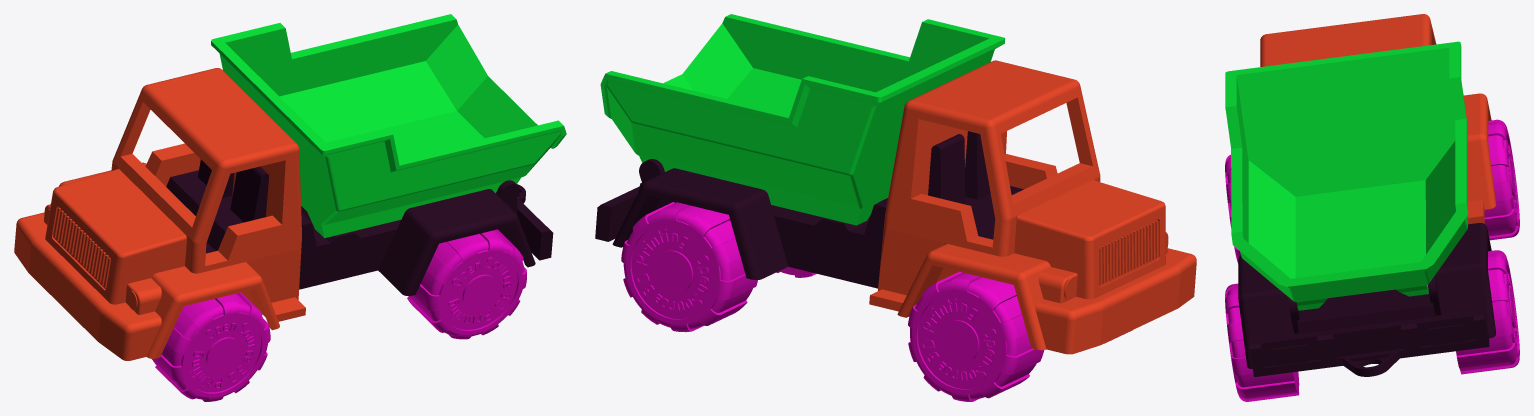
3 renders of one model, left to right at view 1: azimuth 30°, elevation 25°; view 2: azimuth 150°, elevation 25°; view 3: azimuth 270°, elevation 25°, orthographic. The views are drawn at different scales.
Visible parts, largest first — view 1: Cab <155>.001, Flak <146>.001, Base <137>.001, Wheel <611>.001, Wheel <504>.001; view 2: Cab <155>.001, Flak <146>.001, Base <137>.001, Wheel <677>.001, Wheel <706>.001; view 3: Flak <146>.001, Base <137>.001, Cab <155>.001, Wheel <677>.001, Wheel <706>.001, Wheel <611>.001, Wheel <504>.001.
Boxes of the visible parts, x1=… form: Cab <155>.001: x1=14, y1=68, x2=305, y2=360; Flak <146>.001: x1=211, y1=14, x2=566, y2=238; Base <137>.001: x1=166, y1=159, x2=553, y2=295; Wheel <611>.001: x1=407, y1=229, x2=526, y2=339; Wheel <504>.001: x1=152, y1=292, x2=270, y2=401; Cab <155>.001: x1=869, y1=60, x2=1196, y2=354; Flak <146>.001: x1=600, y1=14, x2=1005, y2=225; Base <137>.001: x1=595, y1=131, x2=1023, y2=288; Wheel <677>.001: x1=621, y1=202, x2=757, y2=332; Wheel <706>.001: x1=908, y1=271, x2=1044, y2=401; Flak <146>.001: x1=1225, y1=41, x2=1468, y2=310; Base <137>.001: x1=1238, y1=223, x2=1495, y2=377; Cab <155>.001: x1=1260, y1=14, x2=1496, y2=224; Wheel <677>.001: x1=1456, y1=250, x2=1519, y2=374; Wheel <706>.001: x1=1484, y1=119, x2=1519, y2=240; Wheel <611>.001: x1=1225, y1=283, x2=1299, y2=401; Wheel <504>.001: x1=1225, y1=154, x2=1240, y2=263.
Bounding box in the file's own units: 242 × 132 × 129.
